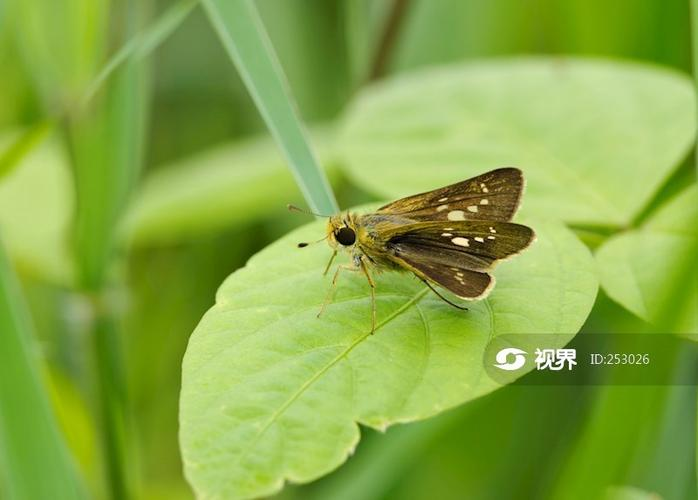Hesperiidae: (287, 164, 531, 338)
